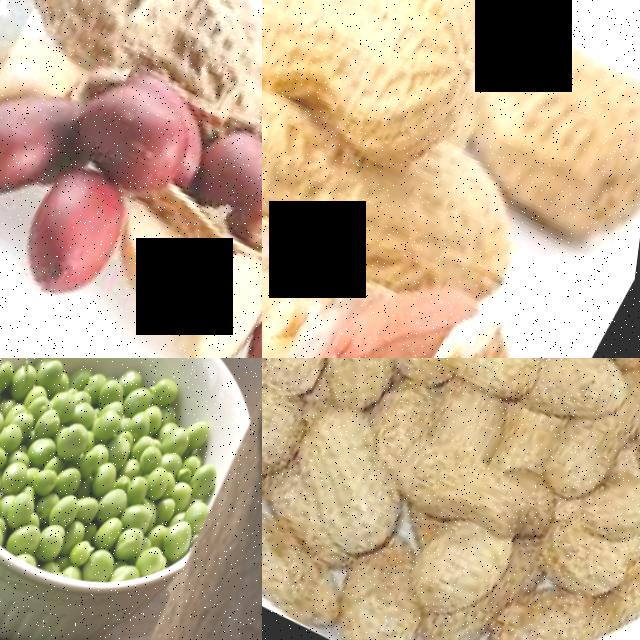peanuts: (449, 5, 640, 236), (262, 0, 526, 160), (19, 0, 262, 115), (402, 416, 585, 559), (9, 146, 163, 309), (61, 63, 220, 200), (161, 225, 262, 358), (383, 358, 567, 418), (262, 358, 379, 398)
peas: (0, 358, 248, 593)
